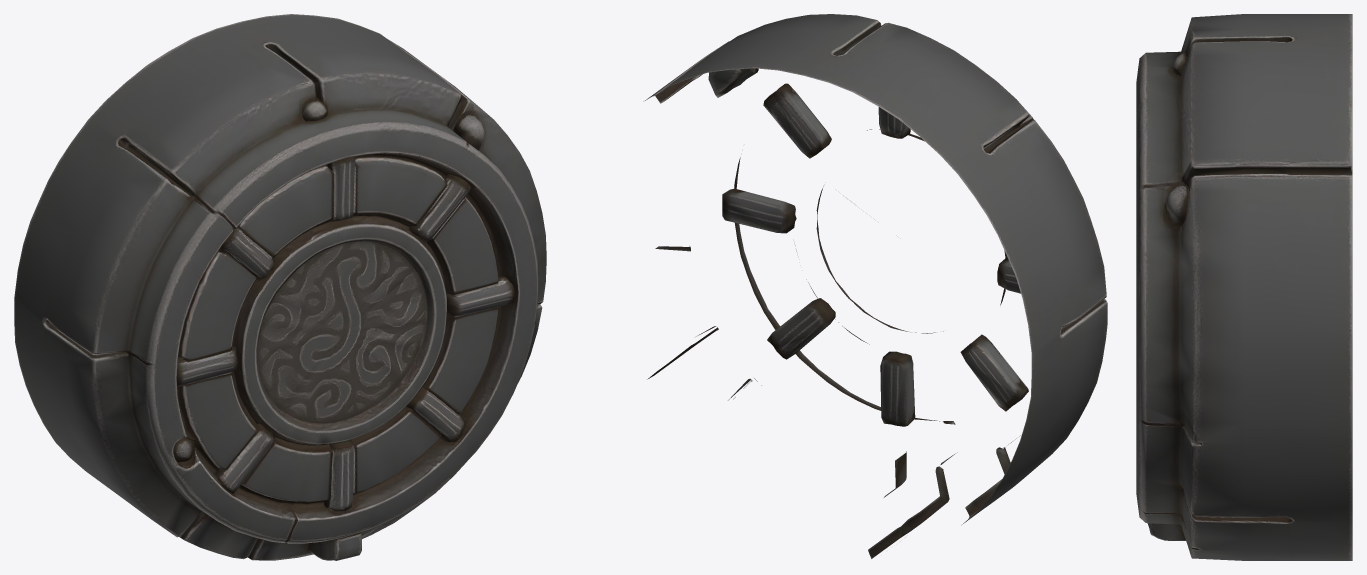
3 renders of one model, left to right at view 1: azimuth 30°, elevation 25°; view 2: azimuth 150°, elevation 25°; view 3: azimuth 270°, elevation 25°, orthographic. The views are drawn at different scales.
Parts seen in each view (by area): view 1: tripo_node_ea4ba66e-b430-4b8b-8389-cf5e3752a750; view 2: tripo_node_ea4ba66e-b430-4b8b-8389-cf5e3752a750; view 3: tripo_node_ea4ba66e-b430-4b8b-8389-cf5e3752a750.
Boxes of the visible parts, x1,y1,x2,y2 form: tripo_node_ea4ba66e-b430-4b8b-8389-cf5e3752a750: (14,14,546,560); tripo_node_ea4ba66e-b430-4b8b-8389-cf5e3752a750: (643,14,1107,558); tripo_node_ea4ba66e-b430-4b8b-8389-cf5e3752a750: (1136,14,1352,560).
Size of the model in its own units: 0.998 by 0.998 by 0.3965.
1 material, 1 textured.
